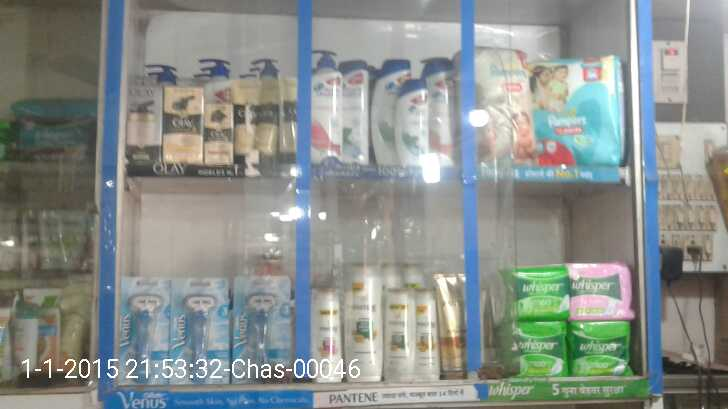venus: (173, 278, 232, 385), (232, 277, 289, 385), (119, 278, 173, 380)
